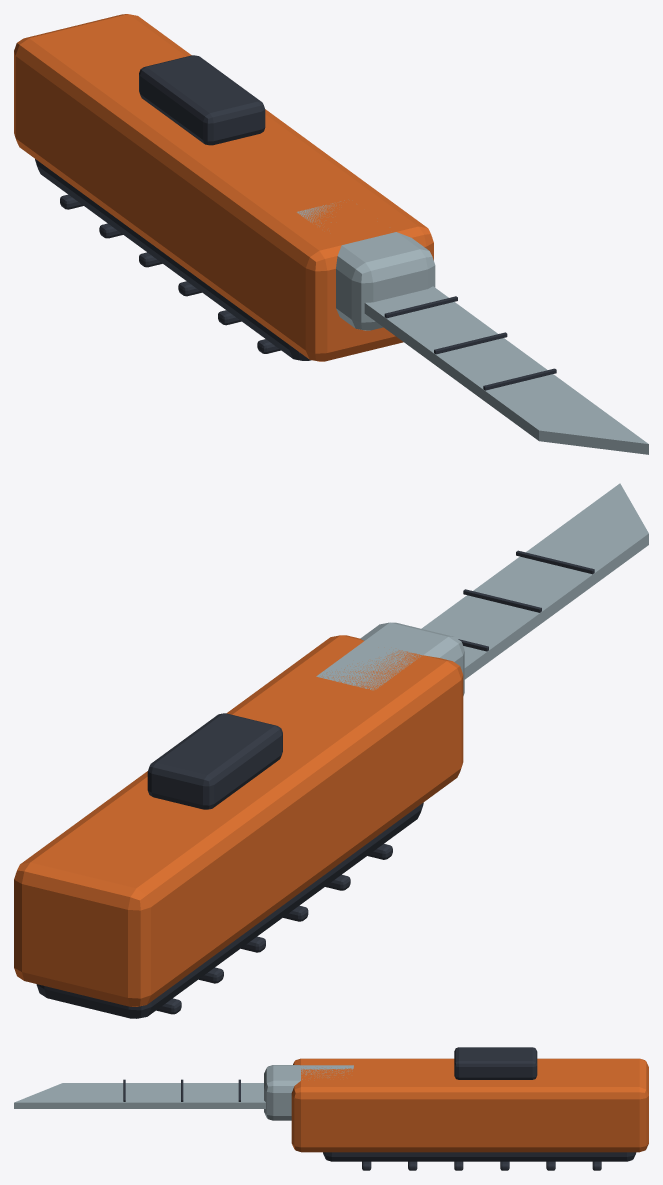
File: BrunoBoxCutter.fbx
3 views of the same model, one above another, from view 1: azimuth 30°, elevation 25°; view 2: azimuth 150°, elevation 25°; view 3: azimuth 270°, elevation 25° (orthographic). The views are drawn at different scales.
Parts seen in each view (by area): view 1: BrunoBoxCutter_Mesh; view 2: BrunoBoxCutter_Mesh; view 3: BrunoBoxCutter_Mesh.
Part boxes in pixels (bbox=[...]): BrunoBoxCutter_Mesh: bbox=[14, 14, 648, 454]; BrunoBoxCutter_Mesh: bbox=[14, 483, 648, 1018]; BrunoBoxCutter_Mesh: bbox=[14, 1047, 648, 1170].
Bounding box in the file's own units: 3.7 × 4.9 × 27.55.
